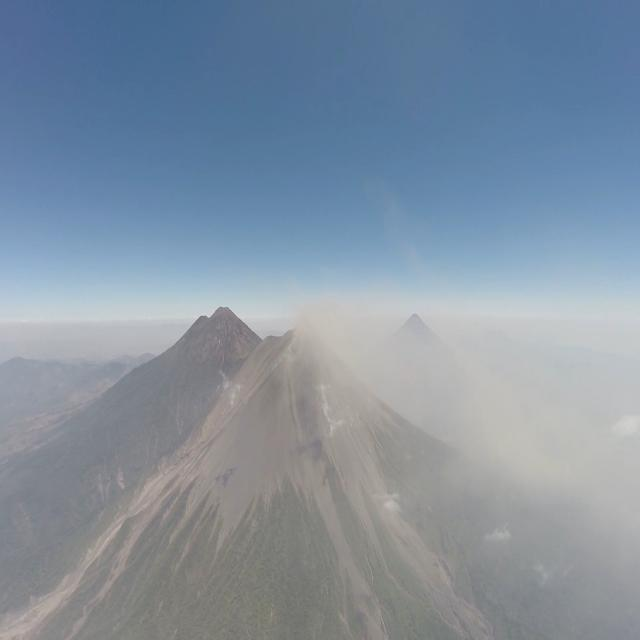Plume: (280, 280, 388, 404)
Summit: (282, 318, 330, 350)
